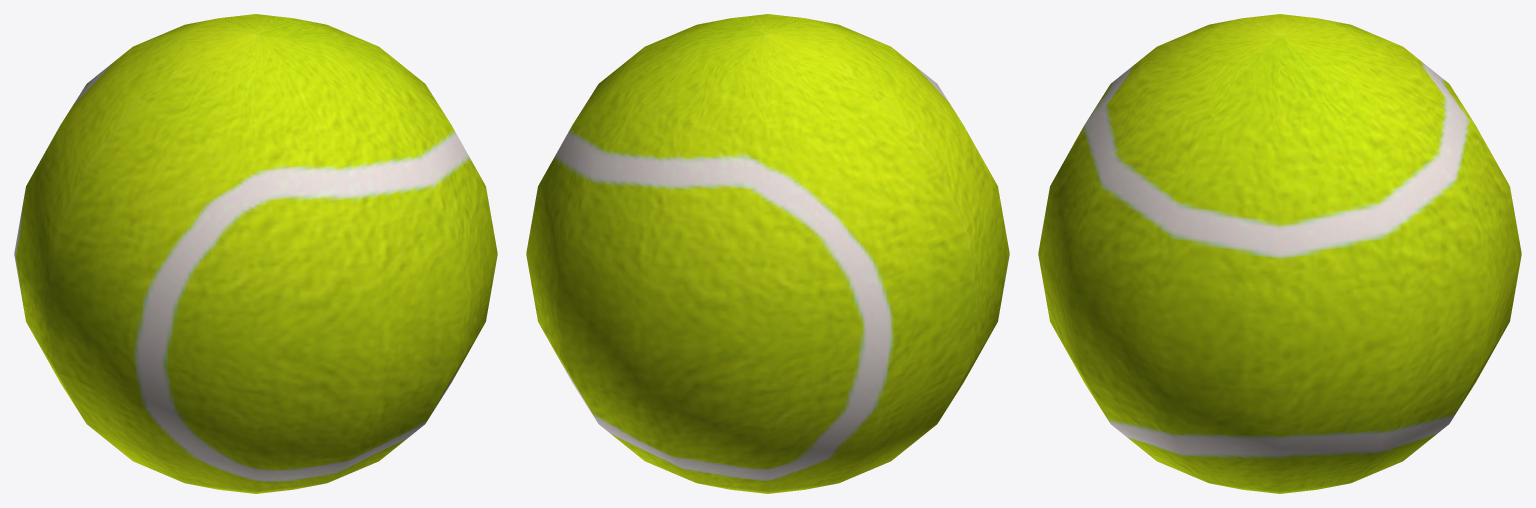
File: tennis_test.fbx
The picture shows the model from 3 angles, left to right: view 1: azimuth 30°, elevation 25°; view 2: azimuth 150°, elevation 25°; view 3: azimuth 270°, elevation 25°; orthographic projection.
Visible parts, largest first — view 1: Sphere; view 2: Sphere; view 3: Sphere.
Part boxes in pixels (x1,y1,x2,y2): Sphere: (14, 14, 497, 493); Sphere: (526, 14, 1009, 493); Sphere: (1038, 14, 1521, 493).
Bounding box in the file's own units: 200 × 200 × 200.
